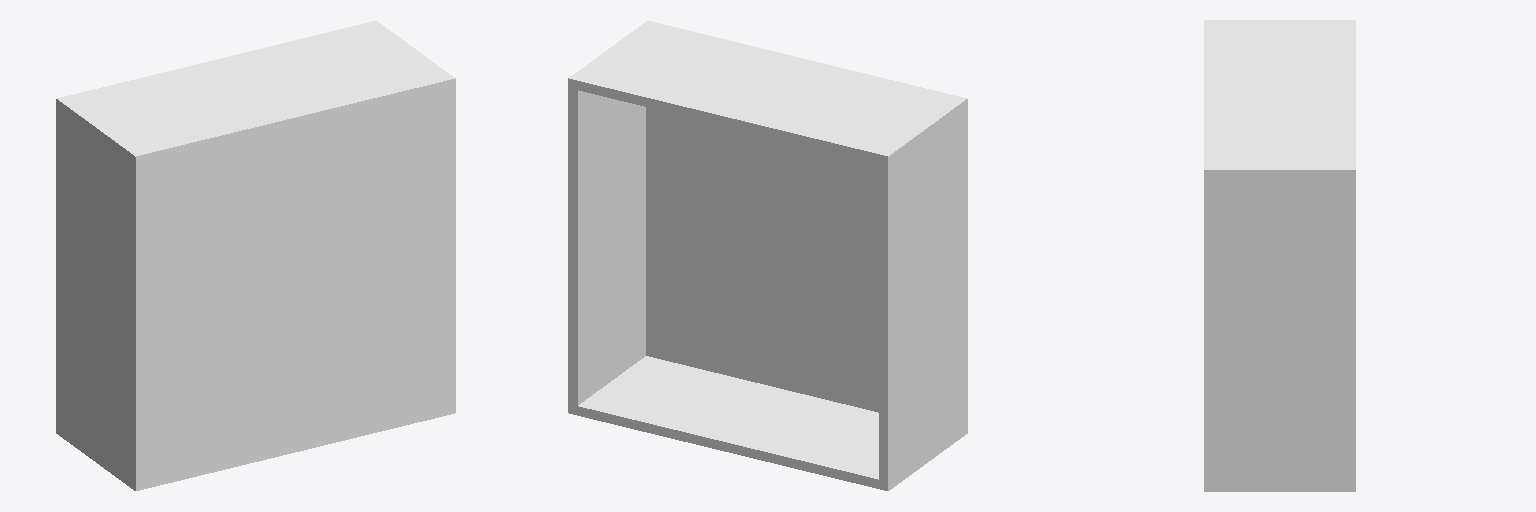
The robot description file, URDF, robot "toteA_large":
<?xml version="1.0"?>
<robot name="toteA_large">
  <material name="Blanc">
    <color rgba="1.0 1.0 1.0 1.0"/>
  </material>
  <link concave="yes" name="base_link">
    <visual>
      <origin xyz="0 0 0" rpy="0 0 0"/>
      <geometry>
        <mesh filename="assets/doosan/m0609_collision/Bin.STL" scale="0.1 0.1 0.1"/>
      </geometry>
      <material name="Blanc"/>
    </visual>s
    <collision concave="yes">
      <origin xyz="0 0 0" rpy="0 0 0"/>
      <geometry>
	 	     <mesh filename="assets/doosan/m0609_collision/Bin.STL" scale="0.1 0.1 0.1"/>
      </geometry>
    </collision>
    <inertial>
      <mass value="1.3608"/>
      <origin xyz="0 0 0.0765" rpy="0 0 0"/>
      <inertia ixx="0.001" ixy="0.0" ixz="0.0" iyy="0.001" iyz="0.0" izz="0.001"/>
    </inertial>
    <contact>
      <lateral_friction value="1.0"/>
    </contact>
  </link>

</robot>

--- What the picture shows (computed from the rendered views, not written in the file) ---
The picture shows the robot from 3 angles, left to right: view 1: azimuth 30°, elevation 25°; view 2: azimuth 150°, elevation 25°; view 3: azimuth 270°, elevation 25°; orthographic projection.
Model toteA_large with 1 links and 0 joints (none), rooted at base_link, posed all joints at 0.
Visible links, largest first — view 1: base_link; view 2: base_link; view 3: base_link.
Boxes of the visible links, box(x1,y1,x2,y2) form: base_link: box(56, 21, 455, 490); base_link: box(568, 21, 967, 490); base_link: box(1204, 20, 1355, 491).
Bounding box of the posed robot: 0.35 × 0.15 × 0.35 m (x, y, z).
Meshes: 1 distinct files referenced, 1 mesh visuals loaded (1 binary STL).
